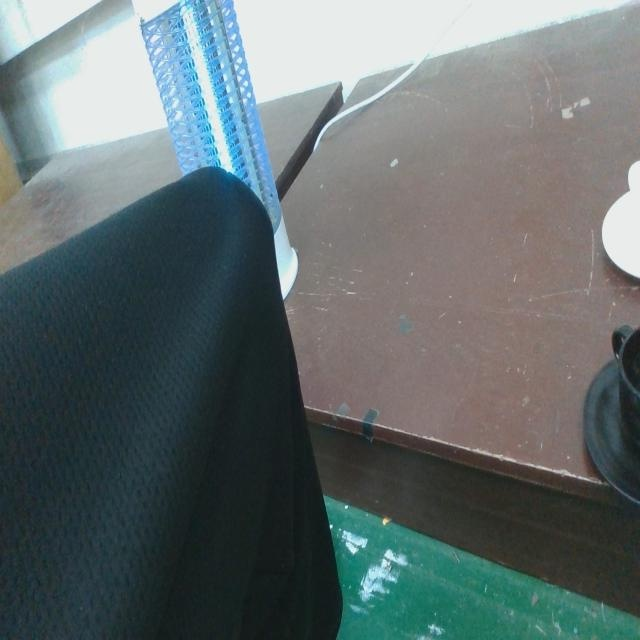black: (580, 319, 640, 515)
white: (599, 155, 640, 283)
